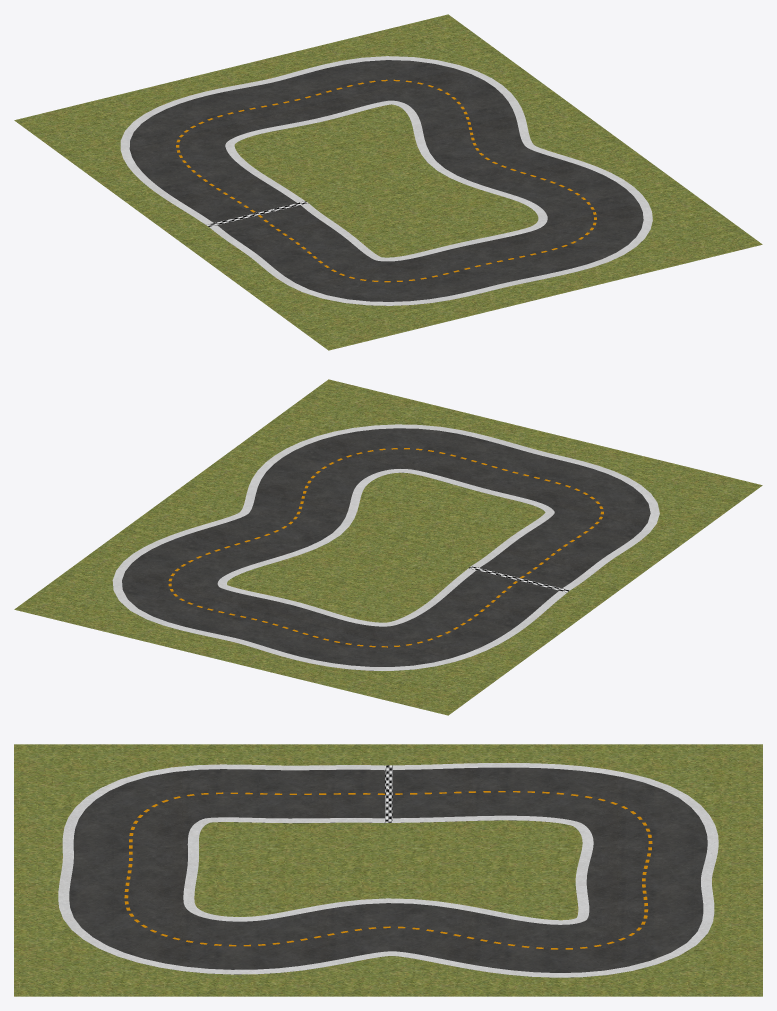
The model's file is Bean.dae.
3 views of the same model, one above another, from view 1: azimuth 30°, elevation 25°; view 2: azimuth 150°, elevation 25°; view 3: azimuth 270°, elevation 25° (orthographic). The views are drawn at different scales.
Parts seen in each view (by area): view 1: field, road, ol, il, cl; view 2: field, road, ol, il, cl; view 3: field, road, ol, il, cl, finishline.
Boxes of the visible parts, x1,y1,x2,y2 form: field: [14, 14, 762, 350]; road: [129, 60, 643, 305]; ol: [120, 56, 652, 305]; il: [225, 100, 547, 261]; cl: [176, 79, 596, 282]; field: [14, 379, 762, 715]; road: [122, 428, 650, 670]; ol: [112, 424, 659, 670]; il: [217, 469, 554, 626]; cl: [168, 448, 603, 647]; field: [14, 744, 762, 996]; road: [69, 767, 707, 977]; ol: [58, 763, 718, 977]; il: [183, 815, 593, 924]; cl: [124, 791, 652, 949]; finishline: [384, 765, 392, 822].
Bounding box in the file's own units: 4.12 × 5.17 × 0.002.
6 materials, 6 textured.
